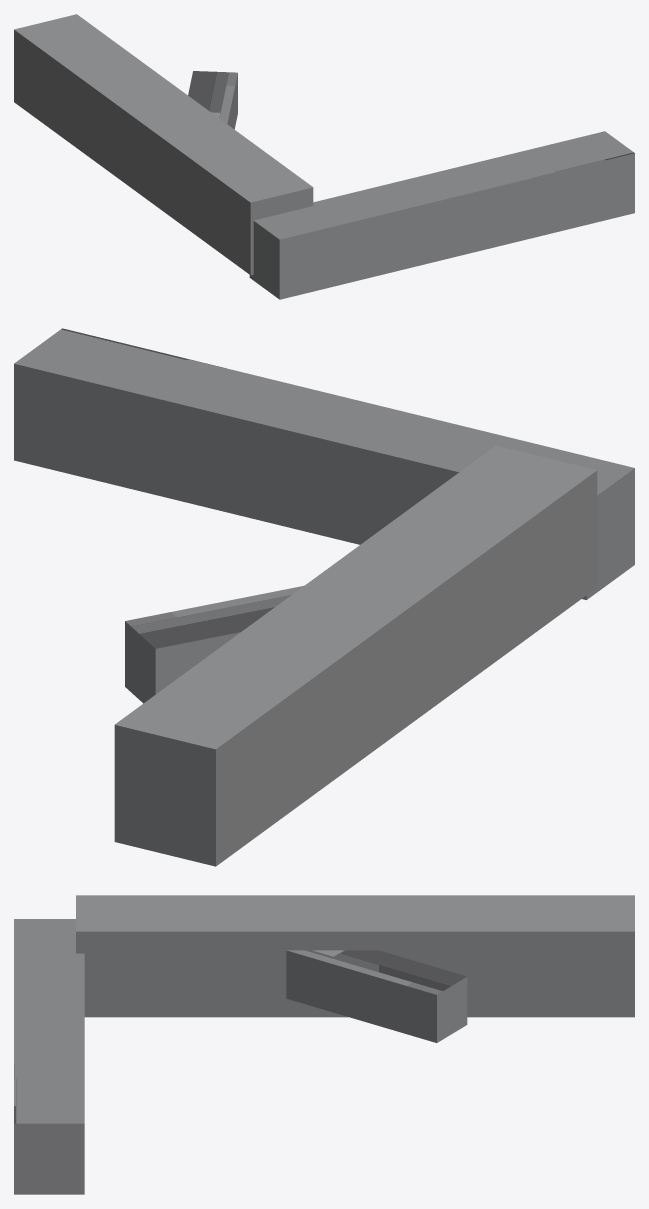
3 views of the same model, one above another, from view 1: azimuth 30°, elevation 25°; view 2: azimuth 150°, elevation 25°; view 3: azimuth 270°, elevation 25° (orthographic). The views are drawn at different scales.
Bounding box in the file's own units: 0.9175 × 0.1925 × 1.17.
